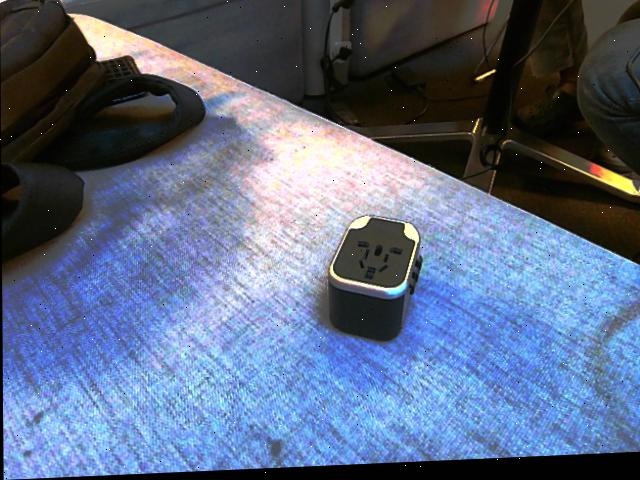adapter: (325, 215, 422, 347)
